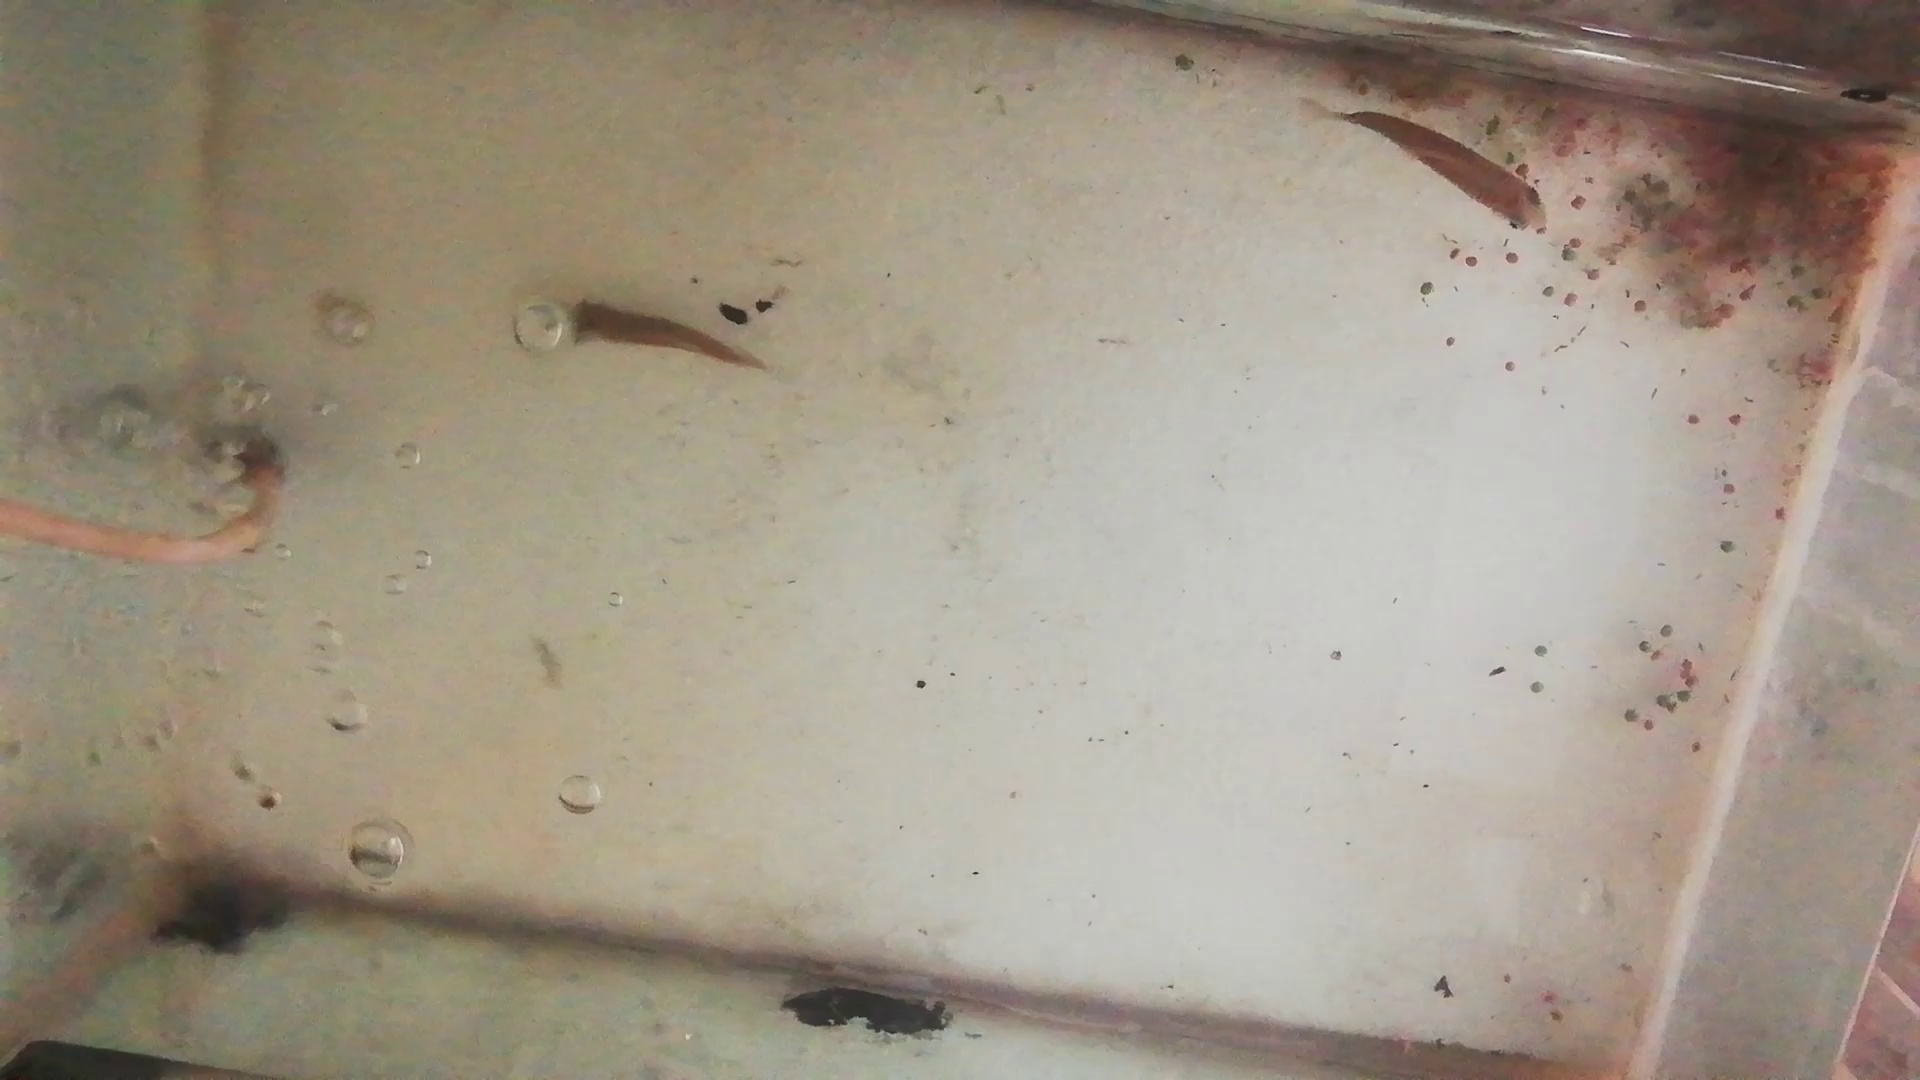fish: (1346, 109, 1545, 241), (551, 301, 754, 377)
